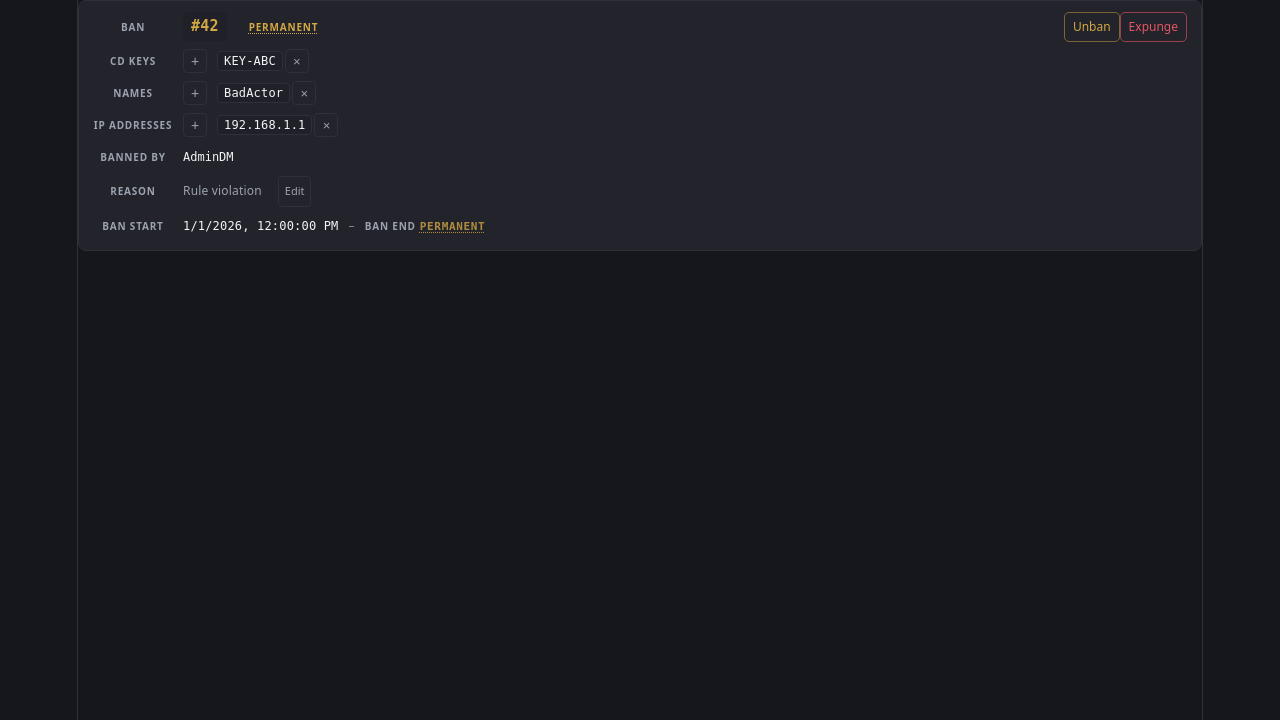
Test: BannedPlayerItem › editing reason — keyboard and errors › shows an error when saving the ban reason fails
Click the button with aria-label "edit ban reason" at x=295, y=192, box [278,176,312,207]
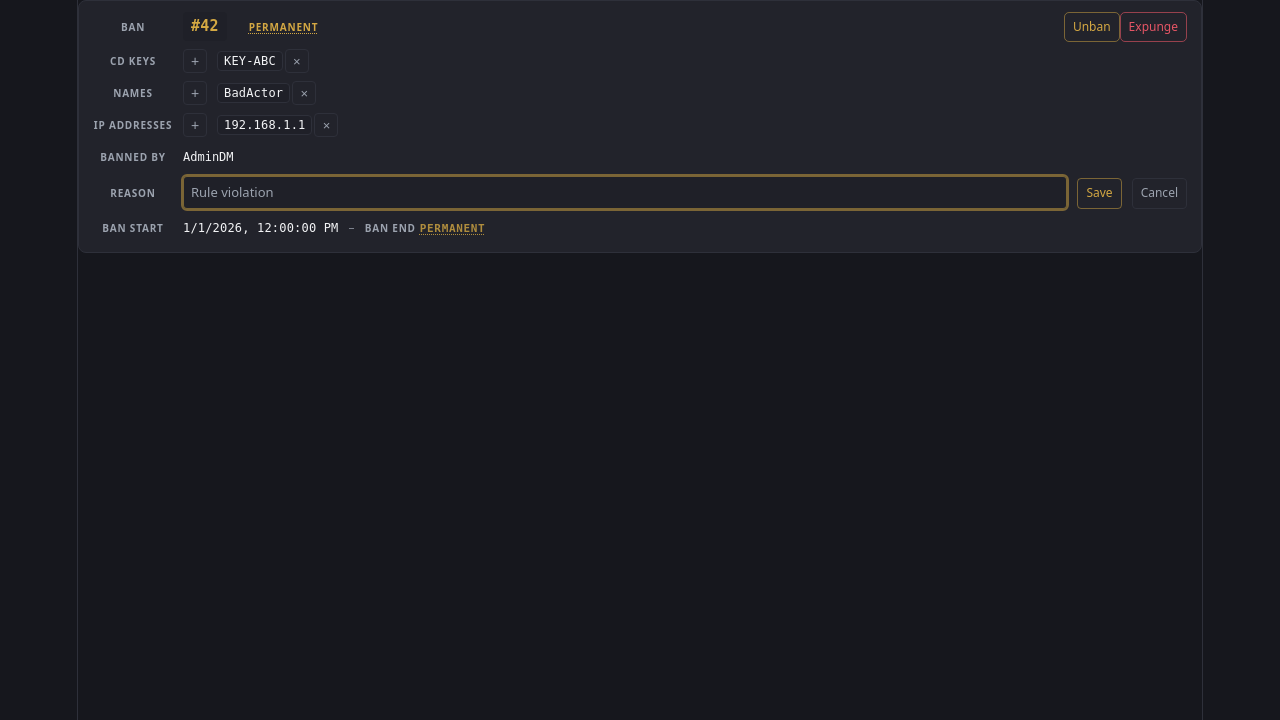
Type " extra" into the field named "ban reason" at x=625, y=193, box [183,176,1068,209]
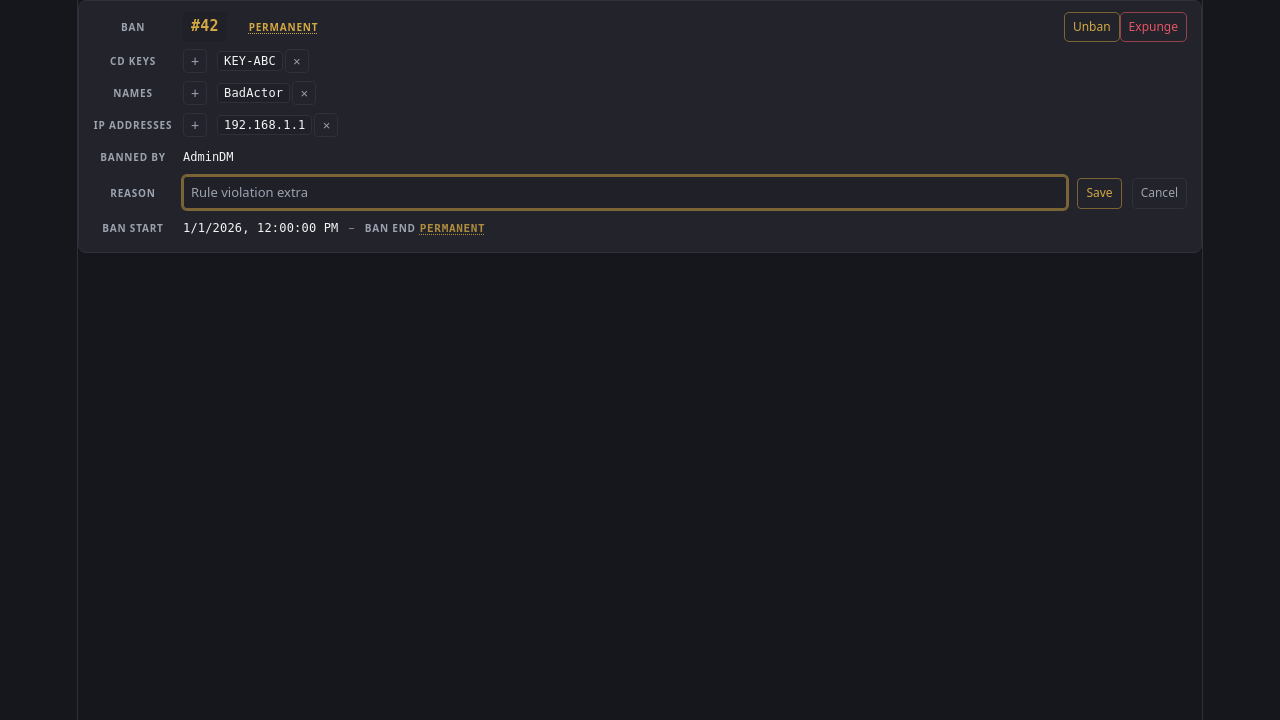
Click the button "Save" at x=1100, y=194, box [1078,178,1122,209]
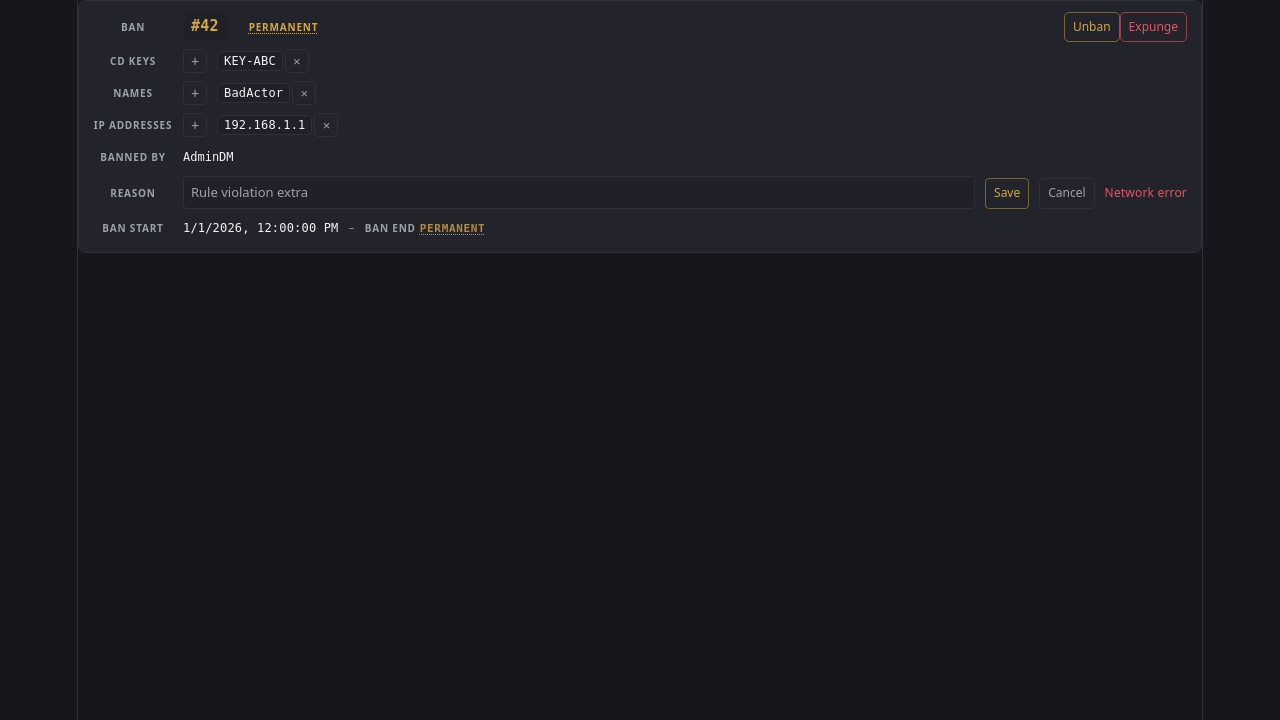
Check: the message reads "Network error", box [1105,184,1187,202]
